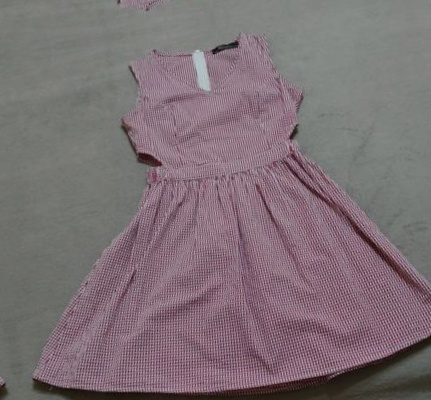Dress: (0, 0, 431, 400), (0, 0, 402, 49), (410, 0, 431, 364), (48, 388, 431, 400), (0, 76, 13, 400)
